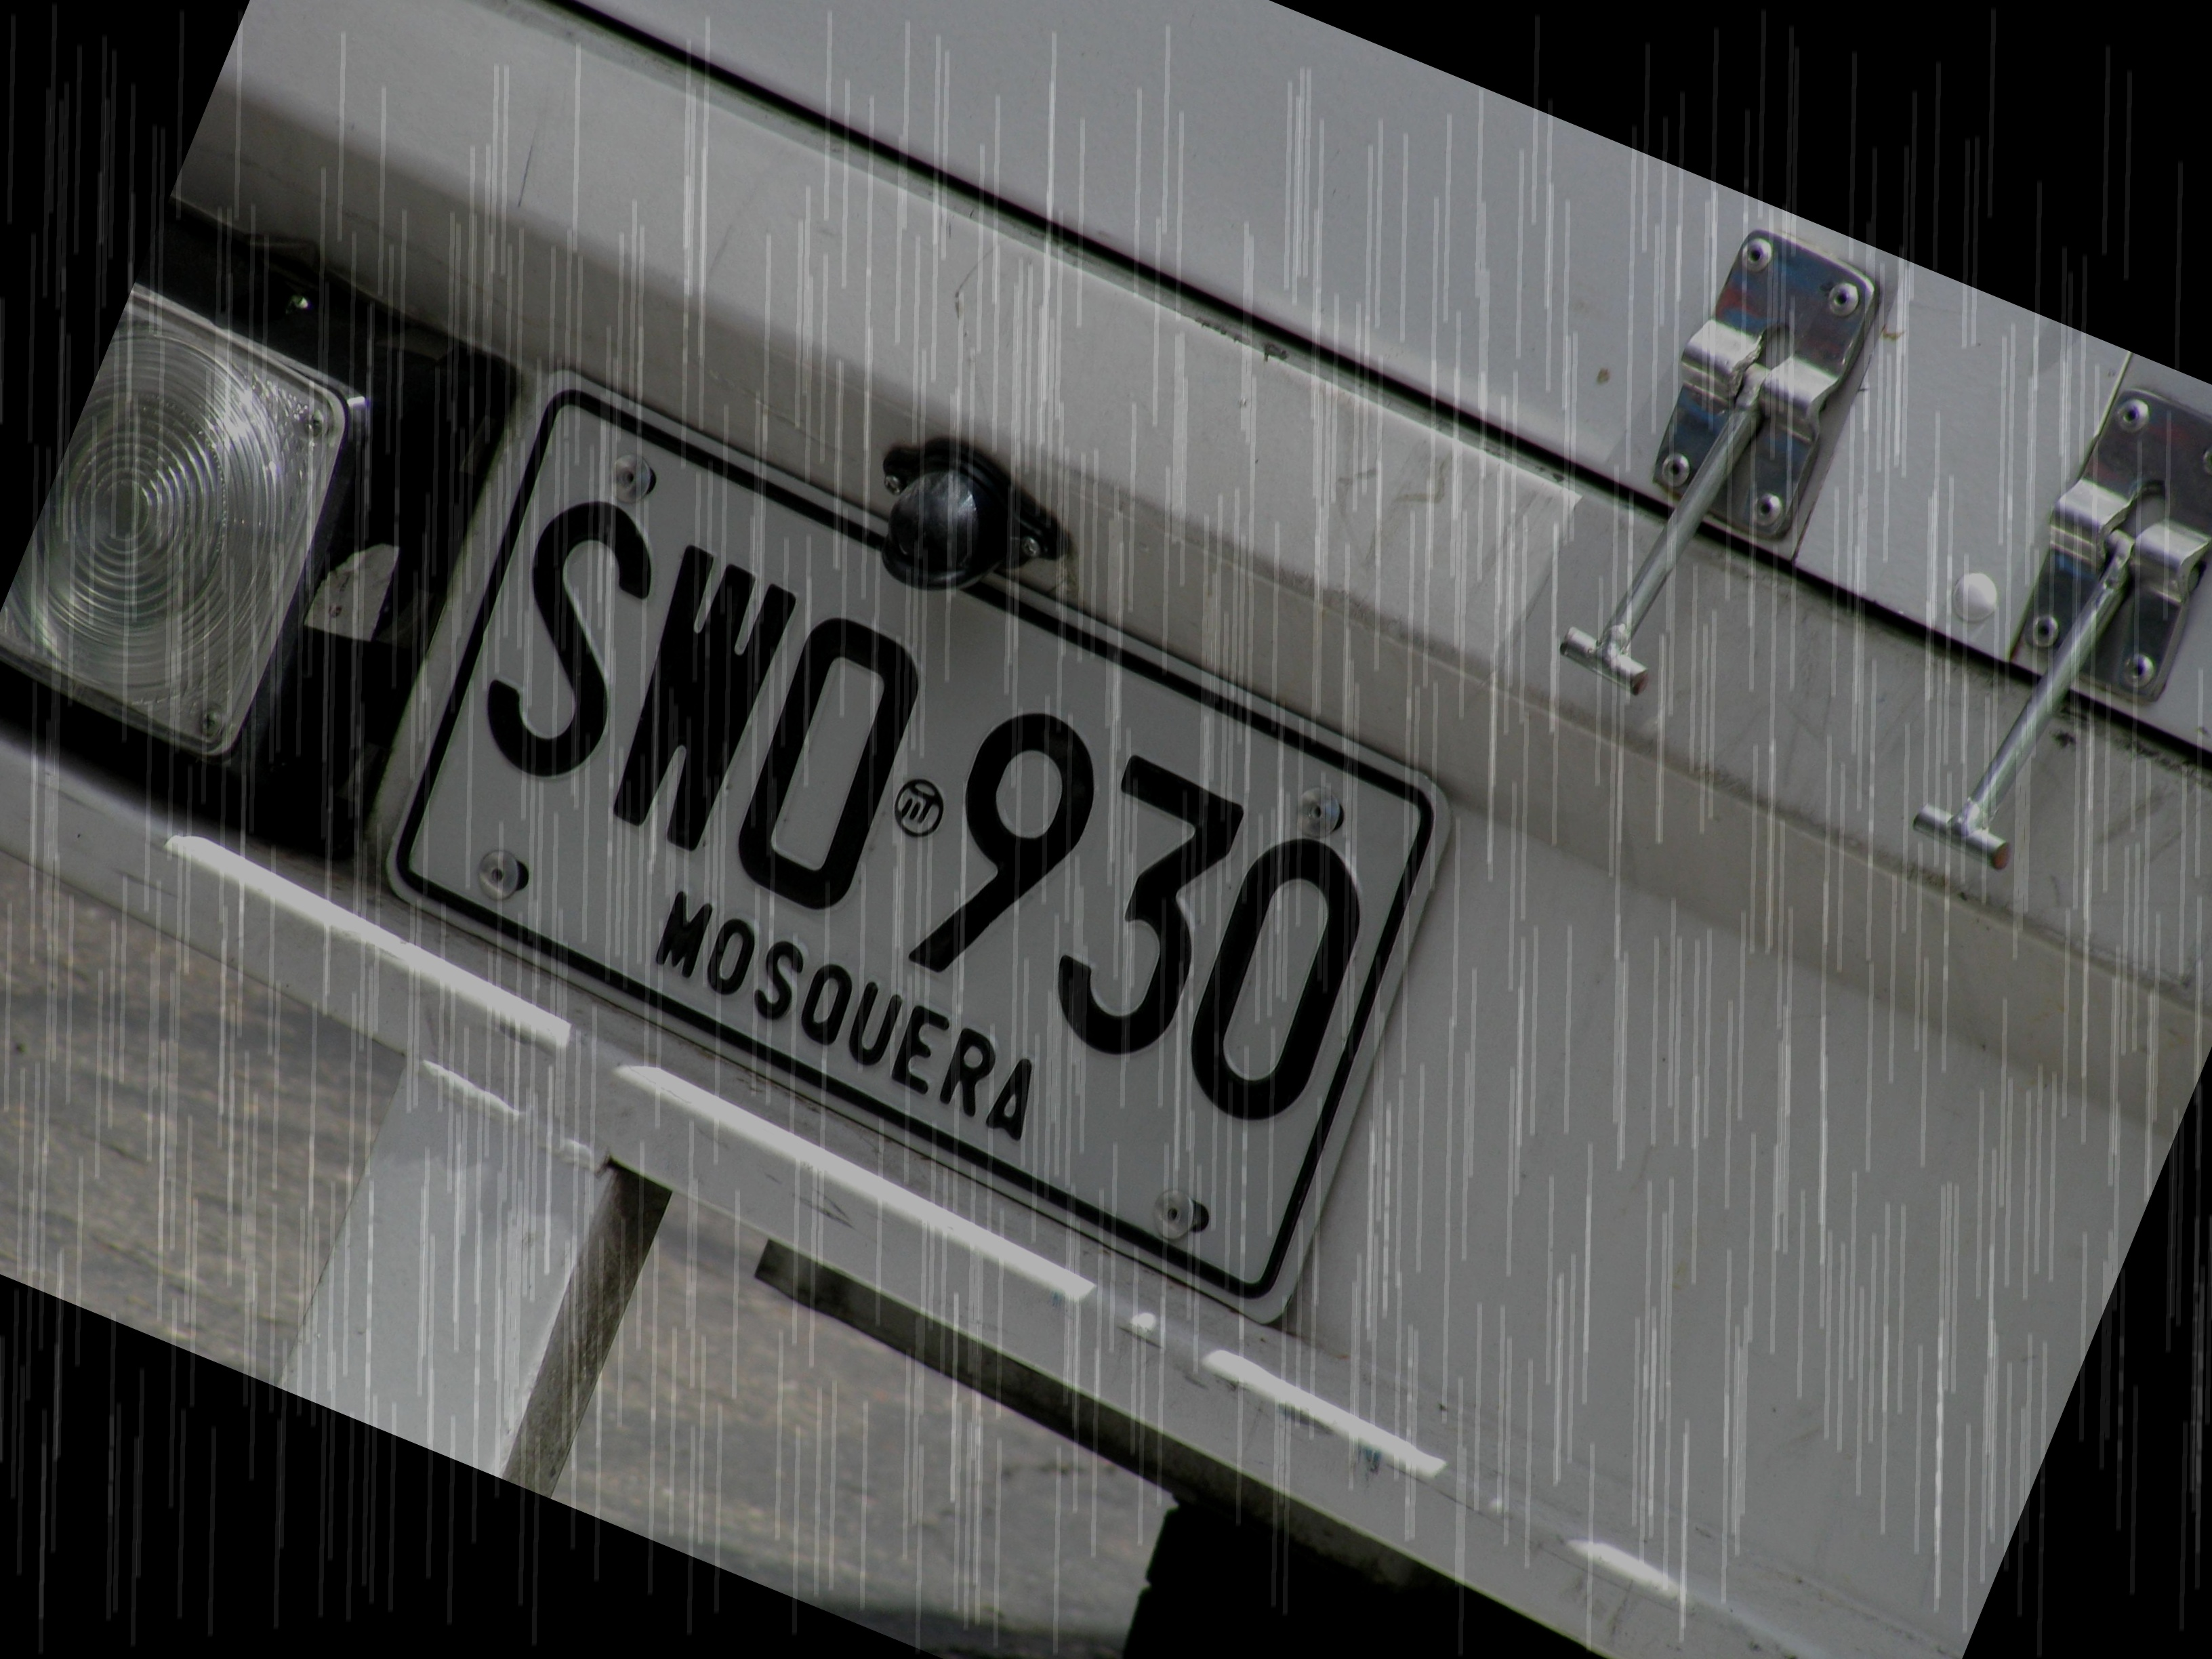placas: (293, 324, 1534, 1345)
